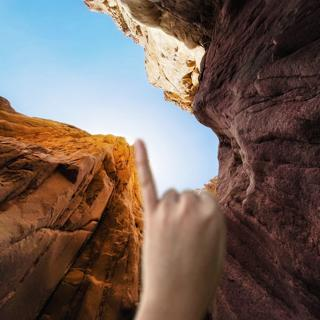Fine: (119, 139, 229, 314)
